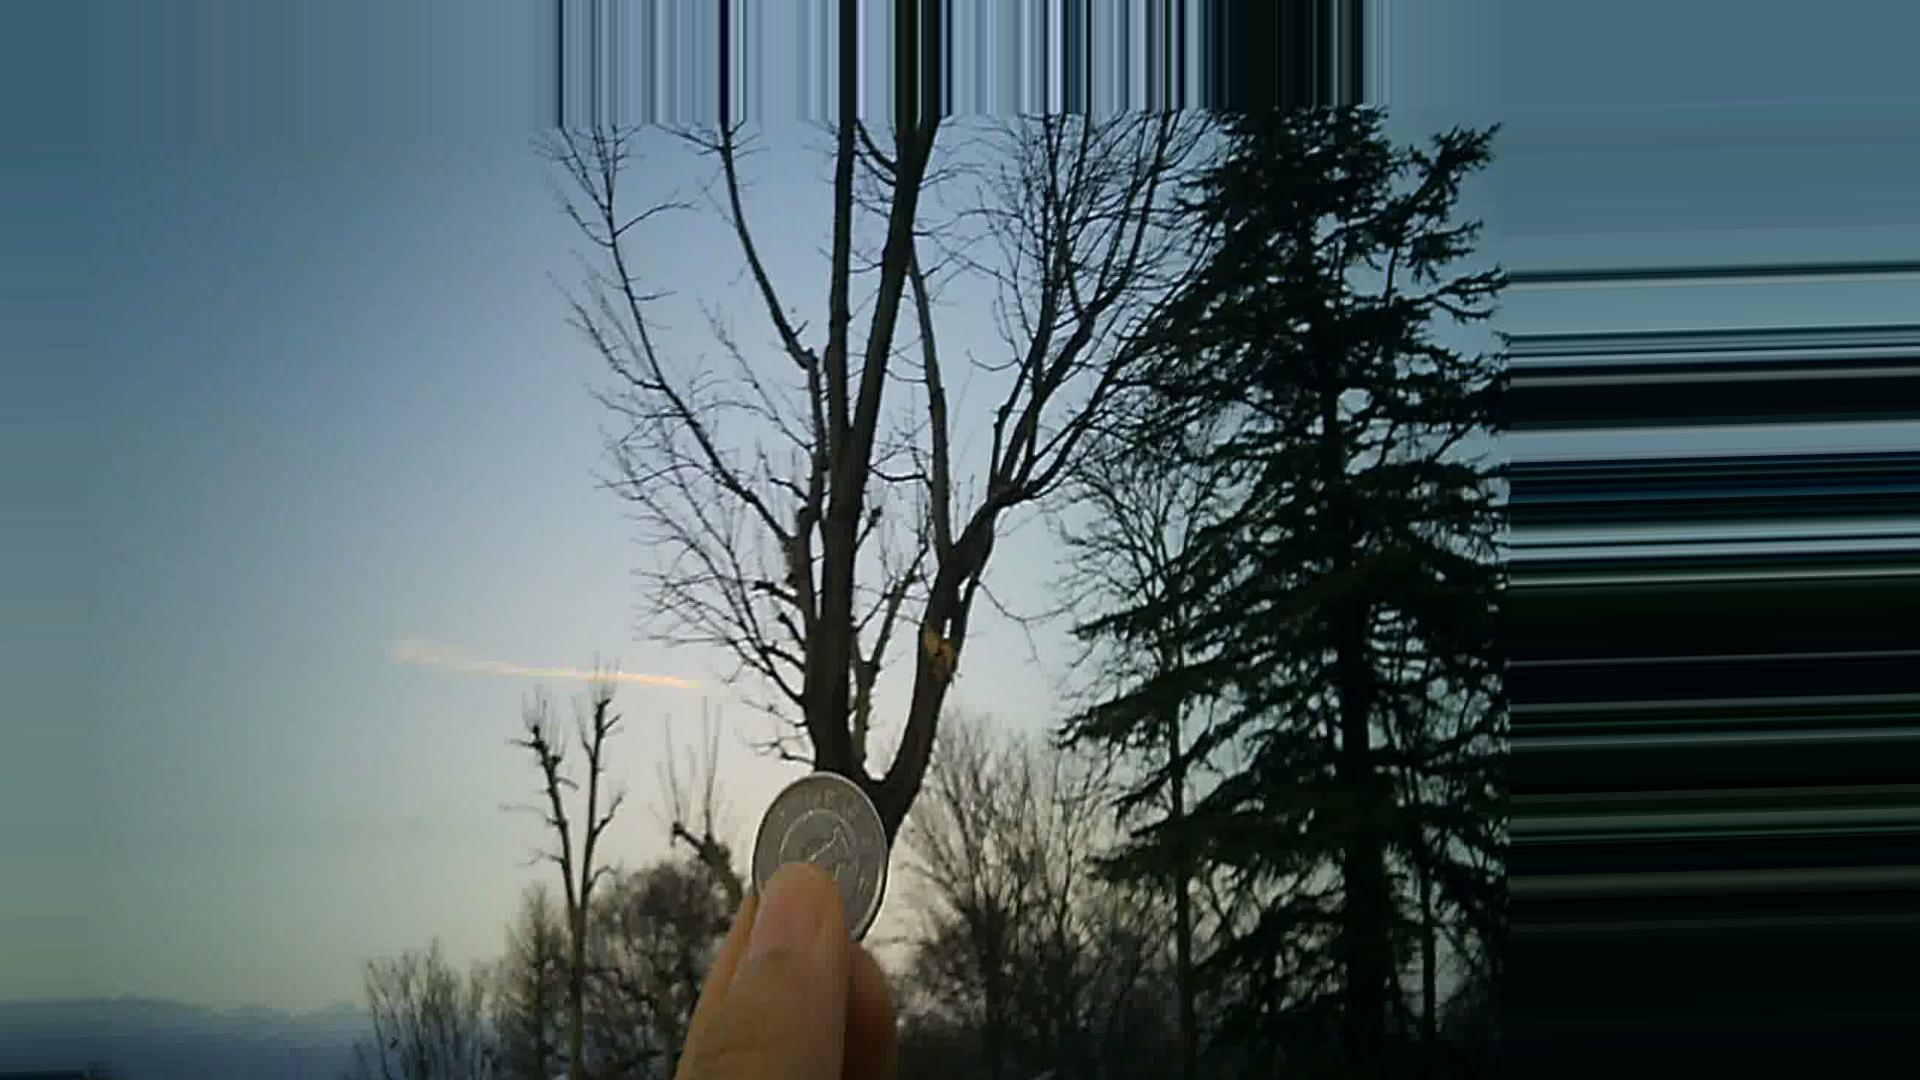1 Yen: (742, 767, 893, 951)
